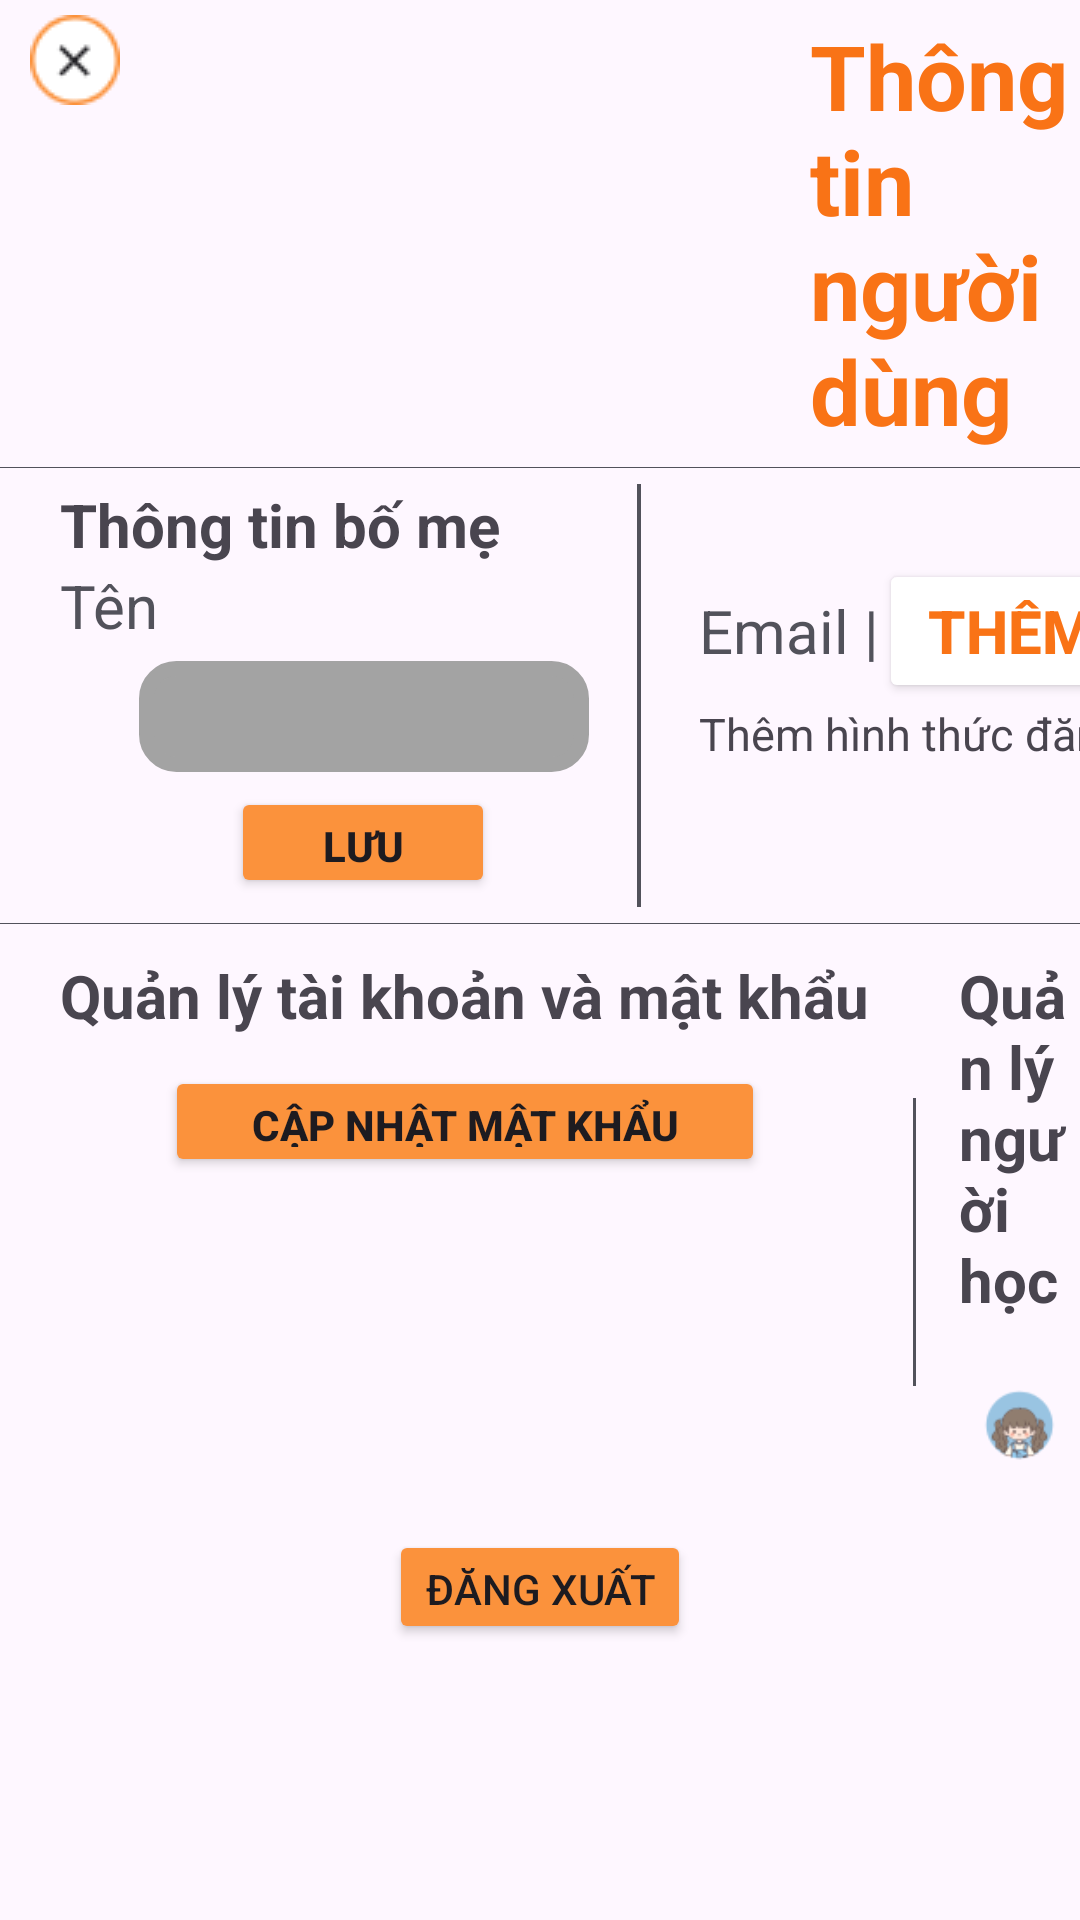

Where icons sit on this 1080*1920 app screen, as (x1, y1, x2, y2):
avt: (986, 1391, 1053, 1459)
exit: (30, 15, 120, 105)
